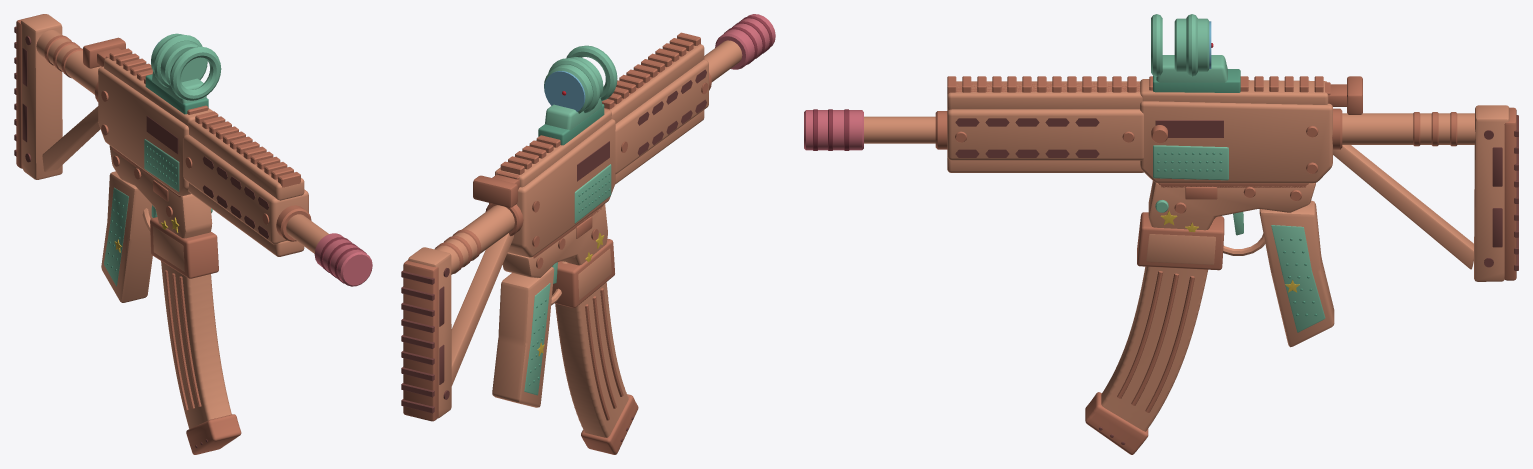
Rendered from Gun_Rifle.fbx.
3 views of the same model, side by side, from view 1: azimuth 30°, elevation 25°; view 2: azimuth 150°, elevation 25°; view 3: azimuth 270°, elevation 25° (orthographic). The views are drawn at different scales.
Parts seen in each view (by area): view 1: Gun_Rifle; view 2: Gun_Rifle; view 3: Gun_Rifle.
Part boxes in pixels (left/top/right/bottom): Gun_Rifle: left=14, top=14, right=372, bottom=454; Gun_Rifle: left=401, top=14, right=775, bottom=454; Gun_Rifle: left=804, top=14, right=1518, bottom=454.
Bounding box in the file's own units: 0.0542 × 0.404 × 0.6066.
